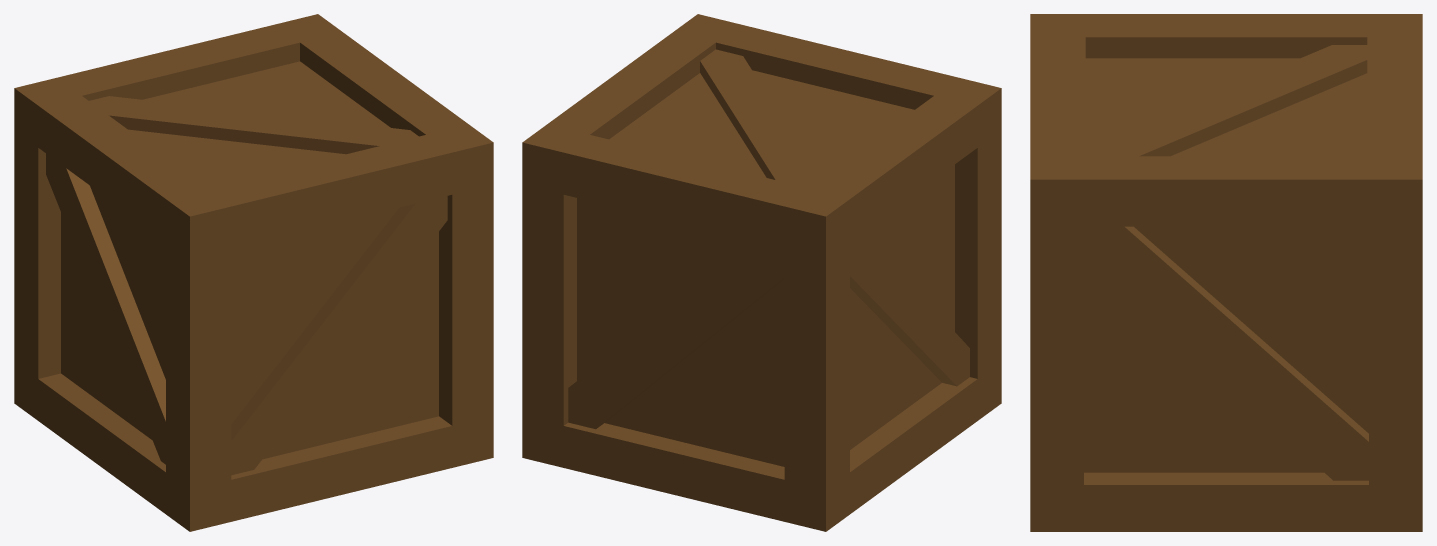
3 renders of one model, left to right at view 1: azimuth 30°, elevation 25°; view 2: azimuth 150°, elevation 25°; view 3: azimuth 270°, elevation 25°, orthographic. The views are drawn at different scales.
Parts seen in each view (by area): view 1: pCube517; view 2: pCube517; view 3: pCube517.
Boxes of the visible parts, x1=… form: pCube517: x1=14, y1=14, x2=493, y2=531; pCube517: x1=522, y1=14, x2=1001, y2=531; pCube517: x1=1030, y1=14, x2=1422, y2=531.
Size of the model in its own units: 1.39 by 1.38 by 1.39.
